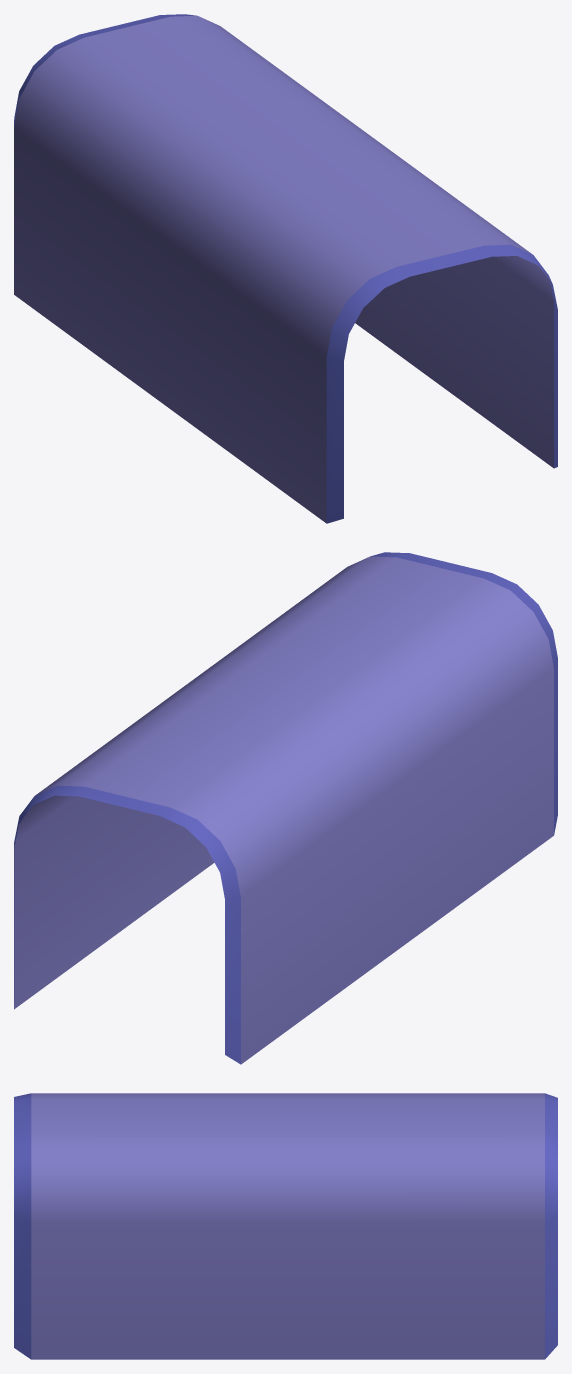
File: wall_small.glb
The picture shows the model from 3 angles, top to bottom: view 1: azimuth 30°, elevation 25°; view 2: azimuth 150°, elevation 25°; view 3: azimuth 270°, elevation 25°; orthographic projection. The views are drawn at different scales.
Visible parts, largest first — view 1: Wall_small; view 2: Wall_small; view 3: Wall_small.
Part boxes in pixels (box(x1,y1,x2,y2)): Wall_small: box(14, 14, 557, 523); Wall_small: box(14, 552, 557, 1064); Wall_small: box(14, 1093, 557, 1359).
Bounding box in the file's own units: 0.1981 × 0.2 × 0.5.
Materials: 2 (1 with a texture image).
